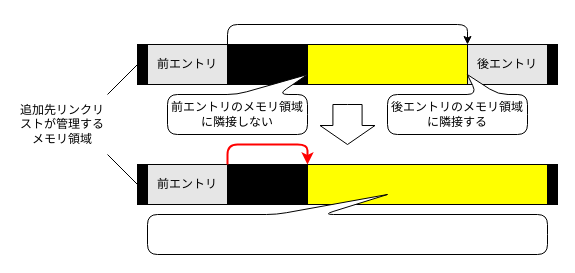
Image size: 575x273. Some labels were removed from this diagram. The centre of each missing label's shape, as x and y in pixels:
"未使用リンクリストからブロック管理情報を取り出して前エントリの後に挿入し、後エントリと結合して後エントリを未使用リンクリストに移動" belongs at point 347,224.
"追加" belongs at point 387,64.
"追加+後エントリ" belongs at point 427,184.
